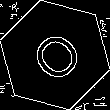O_SE: (22, 22, 88, 88)
